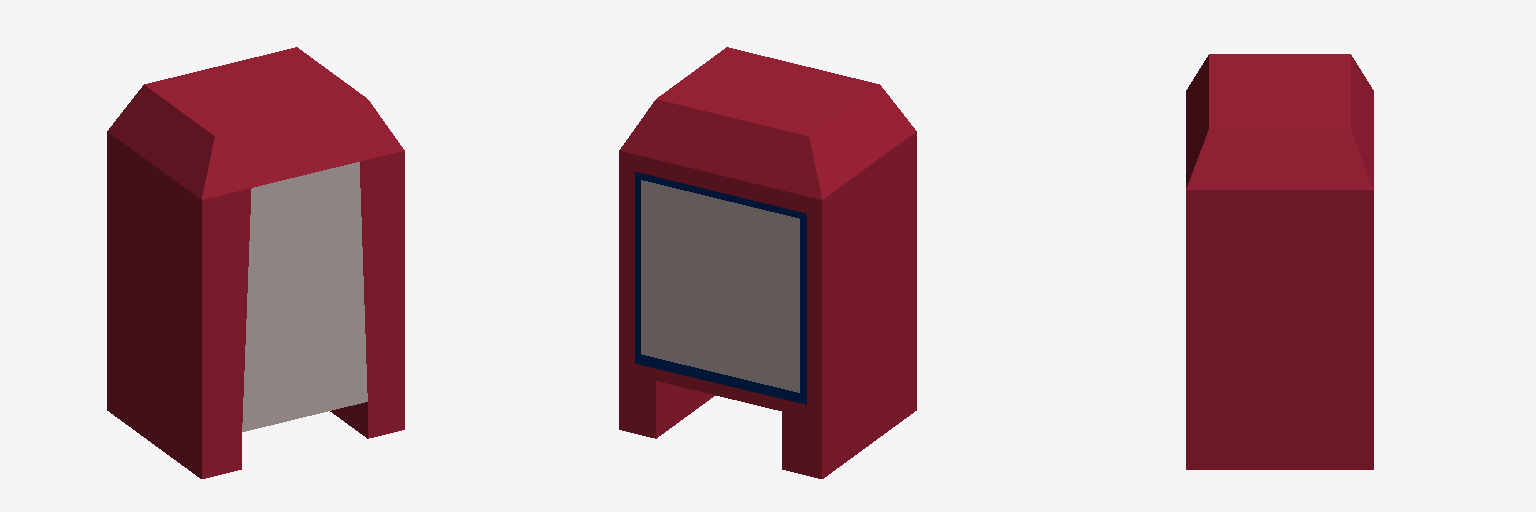
3 views of the same model, side by side, from view 1: azimuth 30°, elevation 25°; view 2: azimuth 150°, elevation 25°; view 3: azimuth 270°, elevation 25° (orthographic).
Visible parts, largest first — view 1: pCube4; view 2: pCube4; view 3: pCube4.
Boxes of the visible parts, box(x1,y1,x2,y2) form: pCube4: box(107, 47, 404, 478); pCube4: box(619, 47, 916, 478); pCube4: box(1186, 54, 1373, 469).
Size of the model in its own units: 59.08 by 91.23 by 47.46.
1 materials, 1 textured.